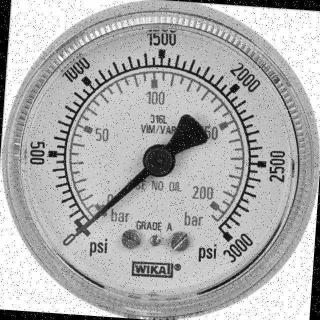gauge: (0, 0, 320, 320), (142, 143, 176, 177), (213, 222, 243, 259), (64, 215, 93, 251)
